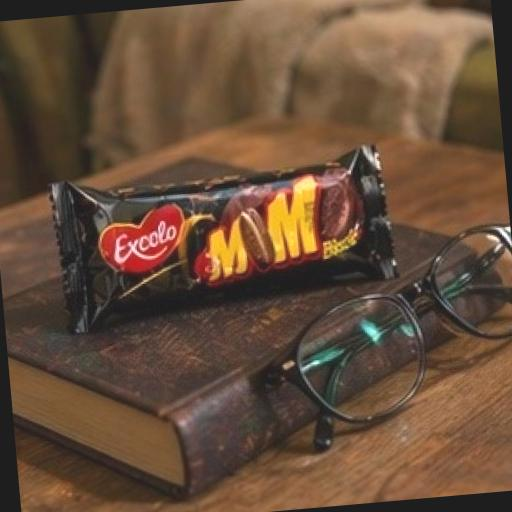MOMO: (46, 147, 457, 398)
